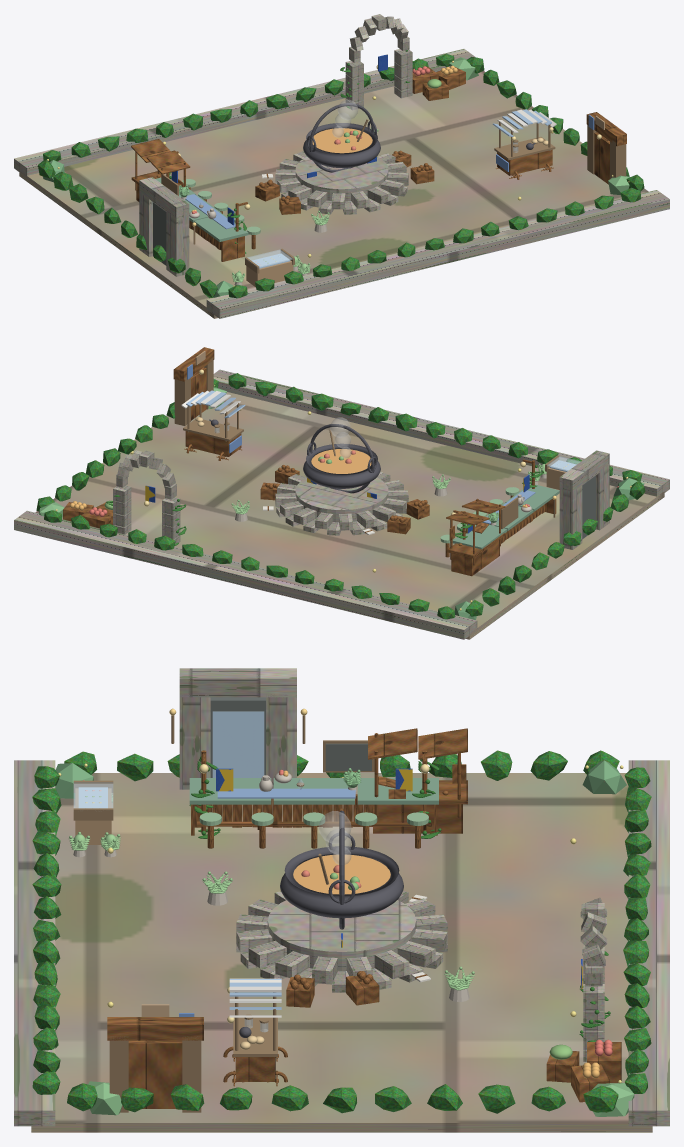
Rendered from restaurant_v3_tex.glb.
3 renders of one model, top to bottom at view 1: azimuth 30°, elevation 25°; view 2: azimuth 150°, elevation 25°; view 3: azimuth 270°, elevation 25°, orthographic. The views are drawn at different scales.
Visible parts, largest first — view 1: ground, border_-1, border_1, hearth_core, cauldron_body, maze_stone_pillar_-1, maze_stone_lintel, stew, cart_body, maze_stone_pillar_1, lounge_door, displaycase_body (+11 smaller); view 2: ground, border_1, border_-1, hearth_core, cauldron_body, maze_stone_pillar_1, stew, maze_stone_lintel, frontcounter_body, cart_body, maze_stone_pillar_-1, lounge_post_1 (+7 smaller); view 3: ground, border_1, border_-1, hearth_core, cauldron_body, maze_stone_lintel, maze_door_glow, lounge_door, maze_stone_pillar_-1, stew, maze_stone_pillar_1, lounge_lintel (+37 smaller).
Boxes of the visible parts, x1,y1,x2,y2 form: ground: (19, 71, 648, 318); border_-1: (206, 190, 669, 318); border_1: (14, 49, 475, 177); hearth_core: (295, 156, 388, 201); cauldron_body: (303, 123, 380, 167); maze_stone_pillar_-1: (166, 210, 189, 276); maze_stone_lintel: (139, 177, 189, 218); stew: (312, 128, 372, 153); cart_body: (497, 149, 552, 175); maze_stone_pillar_1: (139, 192, 152, 256); lounge_door: (594, 132, 609, 184); displaycase_body: (246, 260, 293, 287); ground: (35, 392, 664, 639); border_1: (14, 510, 477, 639); border_-1: (213, 369, 669, 496); hearth_core: (295, 477, 388, 522); cauldron_body: (303, 443, 380, 488); maze_stone_pillar_1: (559, 485, 582, 549); stew: (311, 449, 371, 473); maze_stone_lintel: (559, 450, 609, 492); frontcounter_body: (451, 540, 499, 576); cart_body: (185, 431, 241, 456); maze_stone_pillar_-1: (596, 463, 609, 530); lounge_post_1: (174, 377, 190, 425); ground: (31, 773, 652, 1132); border_1: (628, 760, 669, 1126); border_-1: (14, 760, 55, 1126); hearth_core: (267, 900, 416, 971); cauldron_body: (280, 846, 403, 918); maze_stone_lintel: (179, 668, 296, 697); maze_door_glow: (212, 711, 264, 777); lounge_door: (128, 1040, 182, 1108); maze_stone_pillar_-1: (179, 694, 210, 789); stew: (293, 854, 390, 894); maze_stone_pillar_1: (266, 694, 296, 788); lounge_lintel: (107, 1017, 203, 1040).
Size of the model in its own units: 24 by 4.88 by 19.
Materials: 37 (5 with a texture image).
